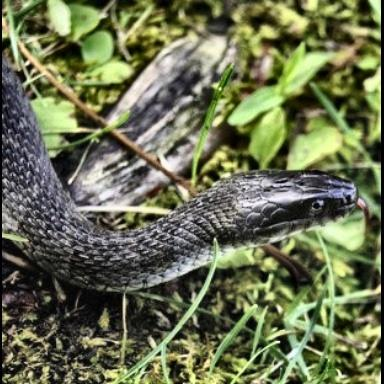snake: (0, 92, 357, 293)
